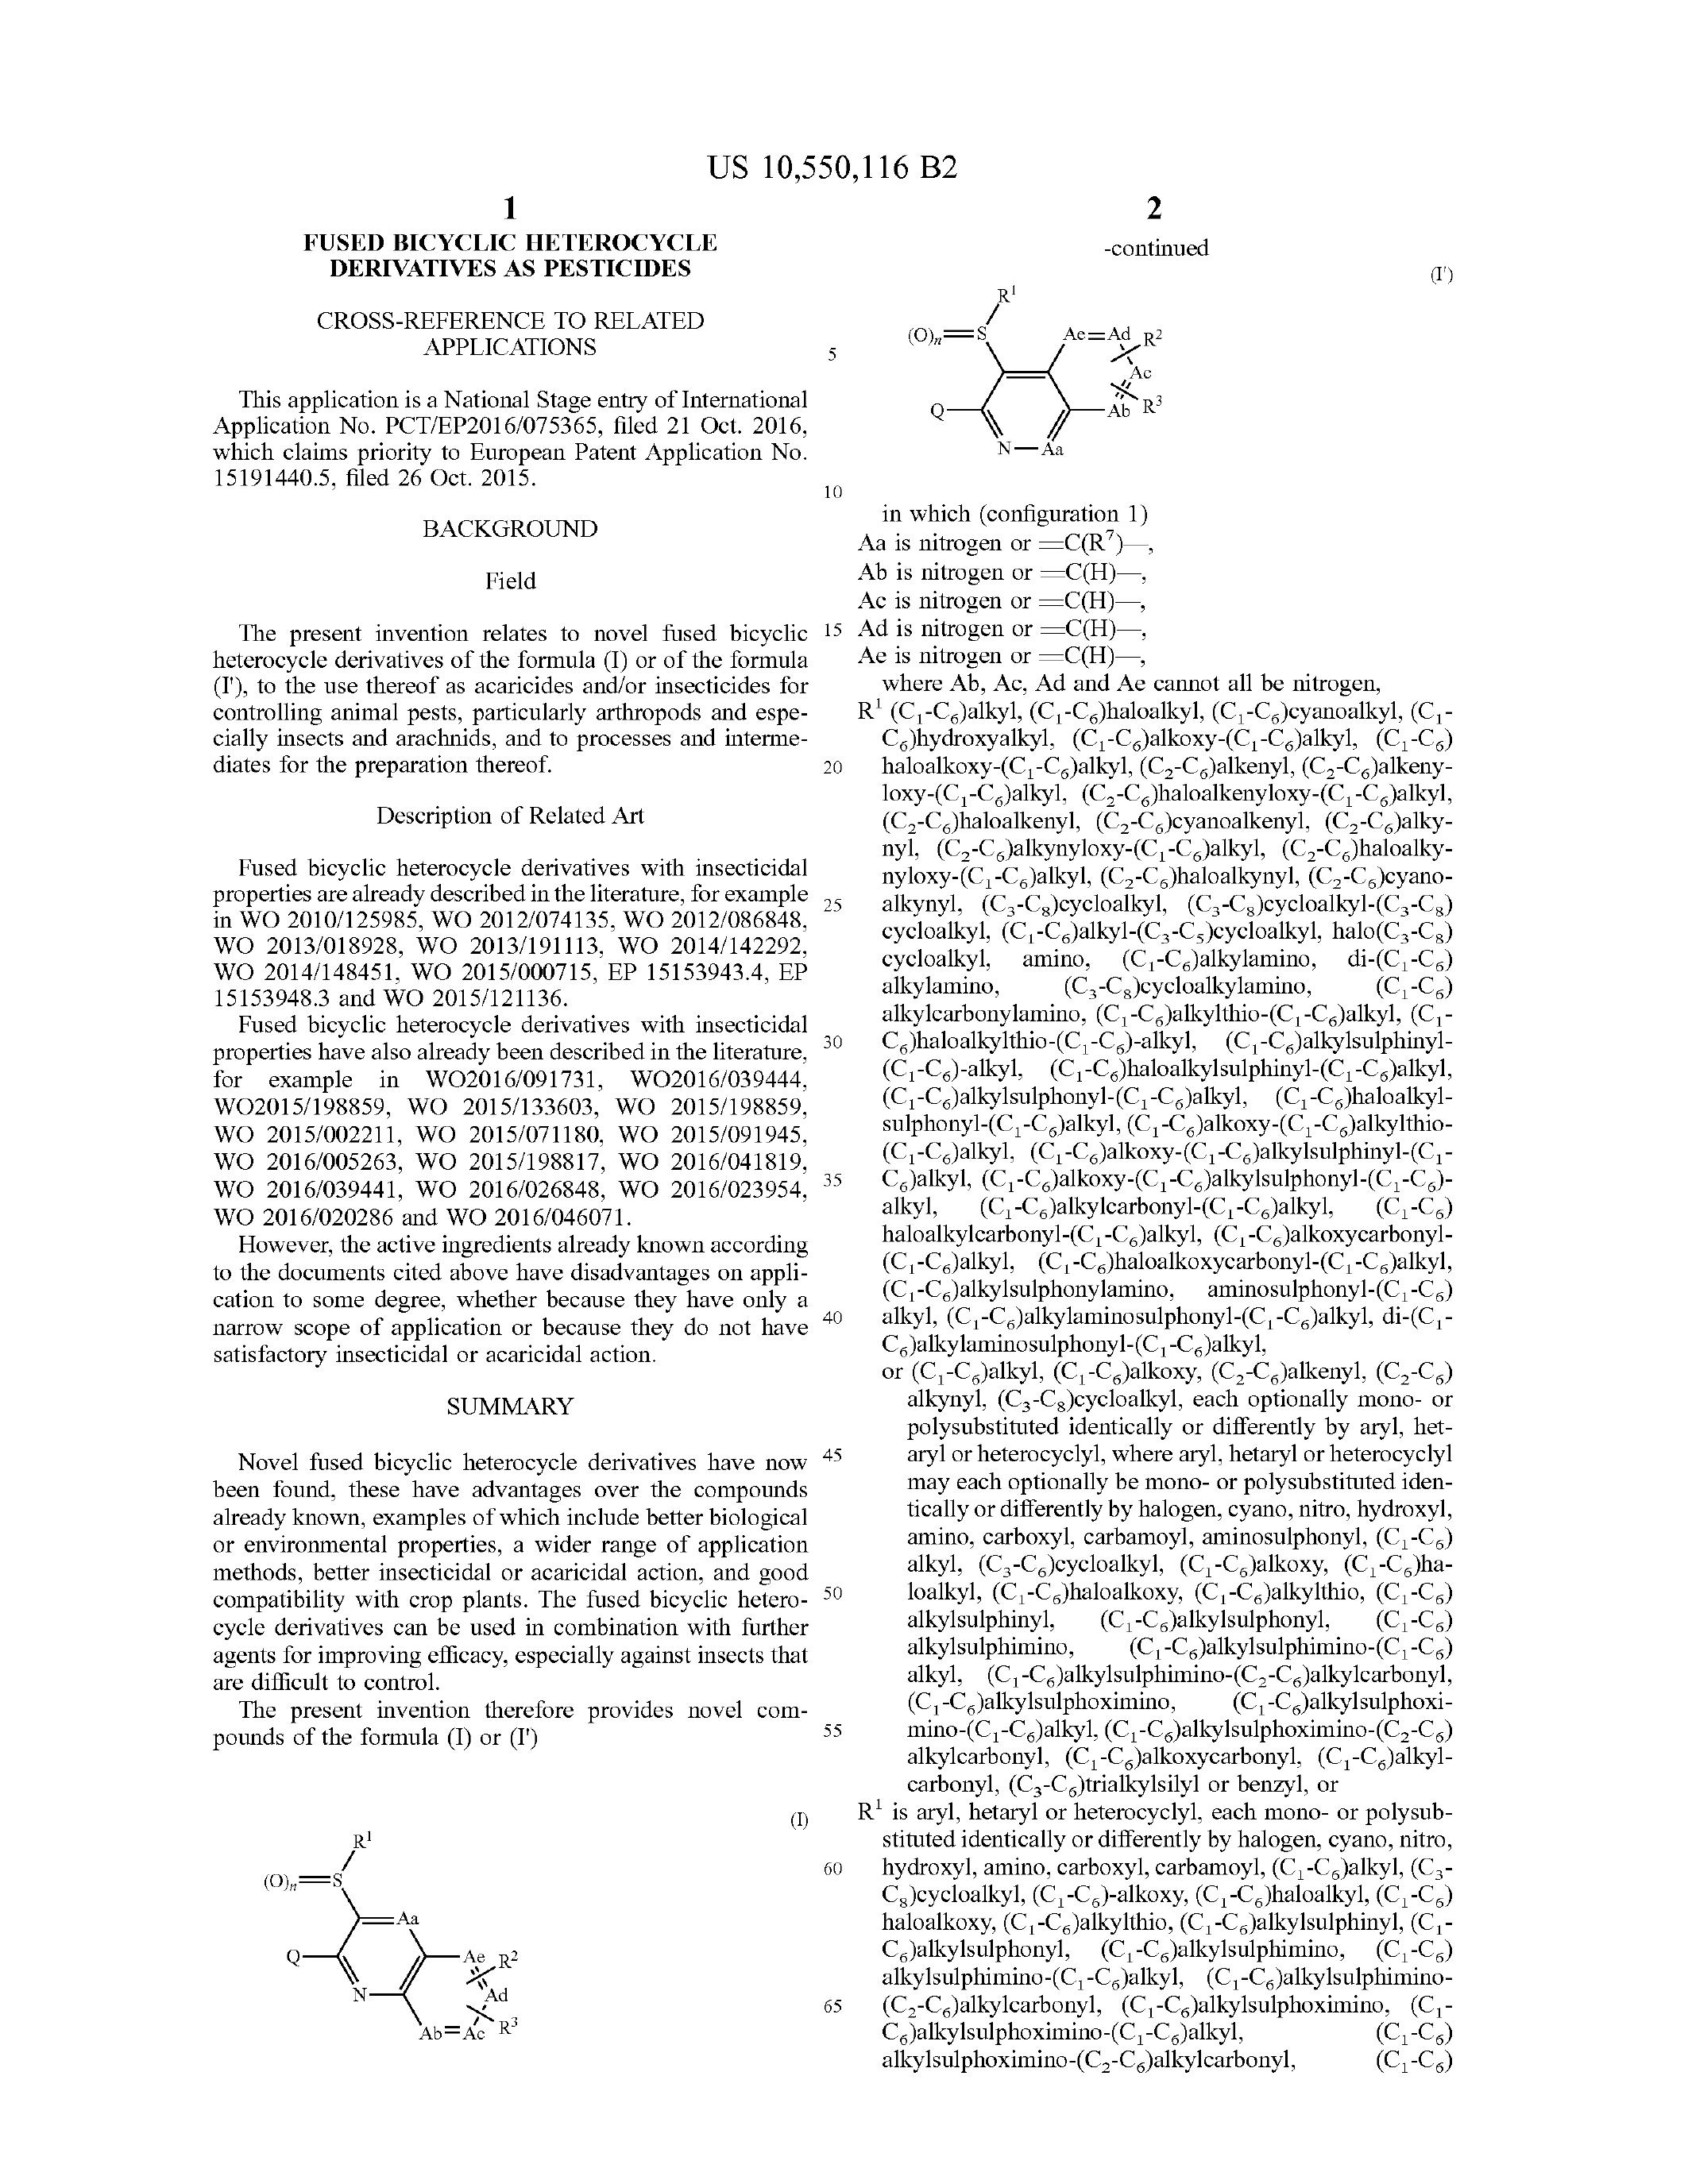markush-structures: (133, 1753, 624, 2104)
